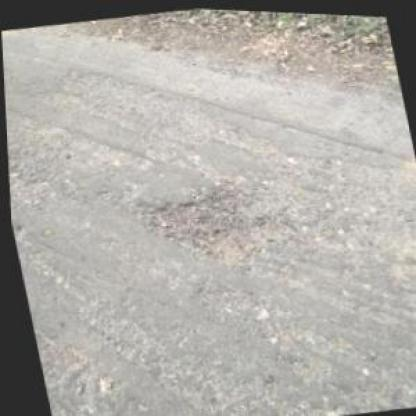pothole: (133, 175, 298, 280)
